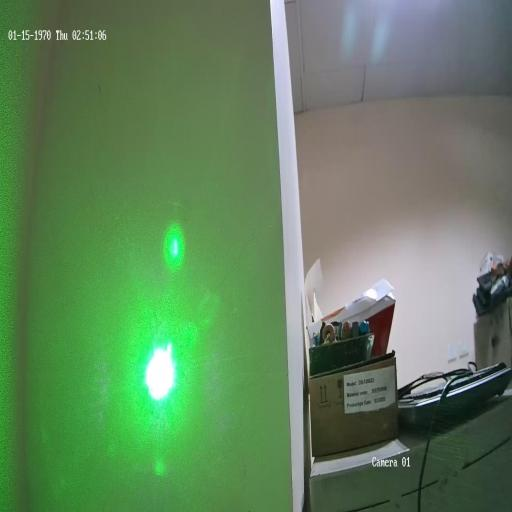laser: (132, 326, 189, 413)
